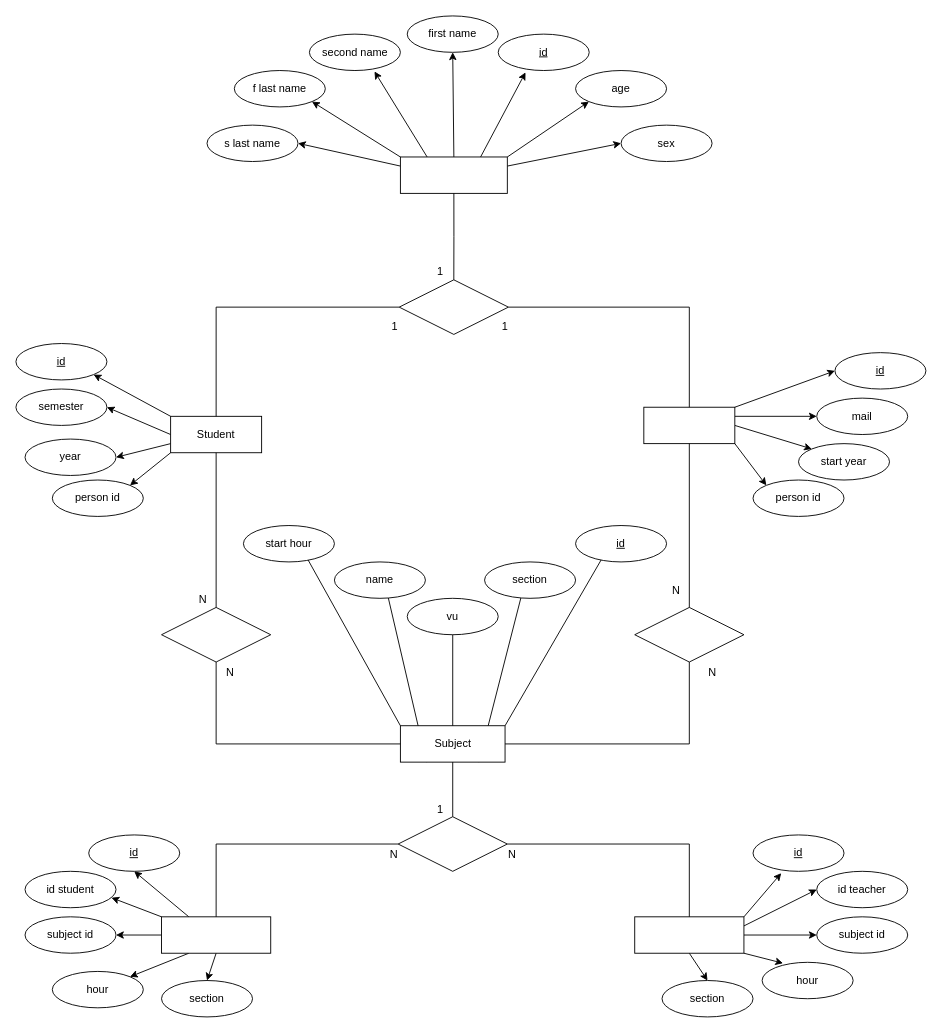
Image size: 942x1033. Some labels were removed from this diagram. Each missing label, with the box of its shape:
can be: (398, 279, 508, 334)
has: (397, 816, 507, 871)
imparts: (634, 607, 744, 662)
person: (399, 156, 507, 193)
receives: (161, 607, 271, 662)
Registered students: (161, 916, 271, 953)
Registered teachers: (634, 916, 744, 953)
Teacher: (643, 406, 735, 444)
